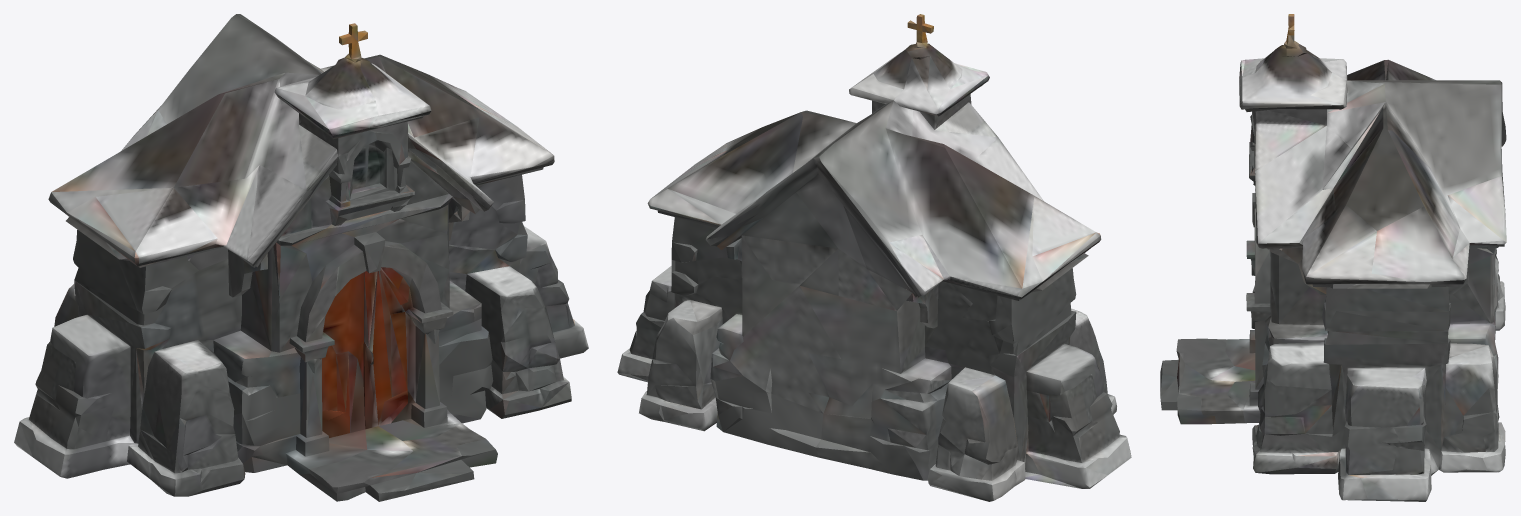
The model's file is temple.glb.
3 renders of one model, left to right at view 1: azimuth 30°, elevation 25°; view 2: azimuth 150°, elevation 25°; view 3: azimuth 270°, elevation 25°, orthographic. The views are drawn at different scales.
Size of the model in its own units: 1.9 by 1.42 by 1.19.
Materials: 1 (1 with a texture image).
